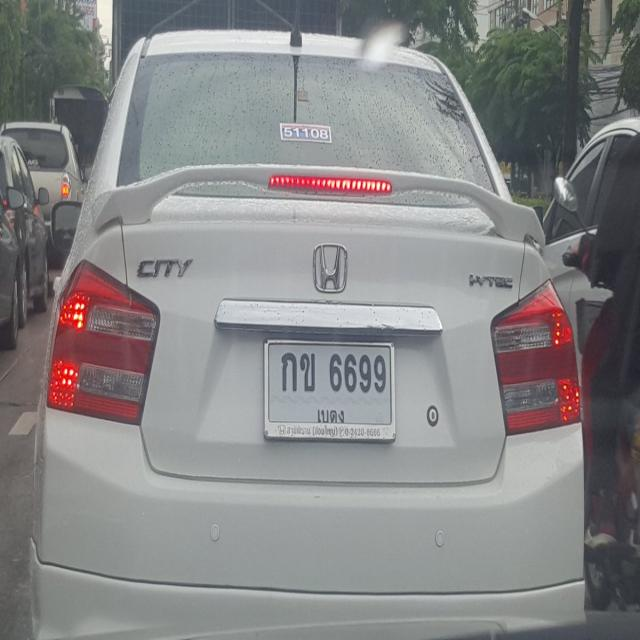license_plate: (264, 336, 396, 445)
